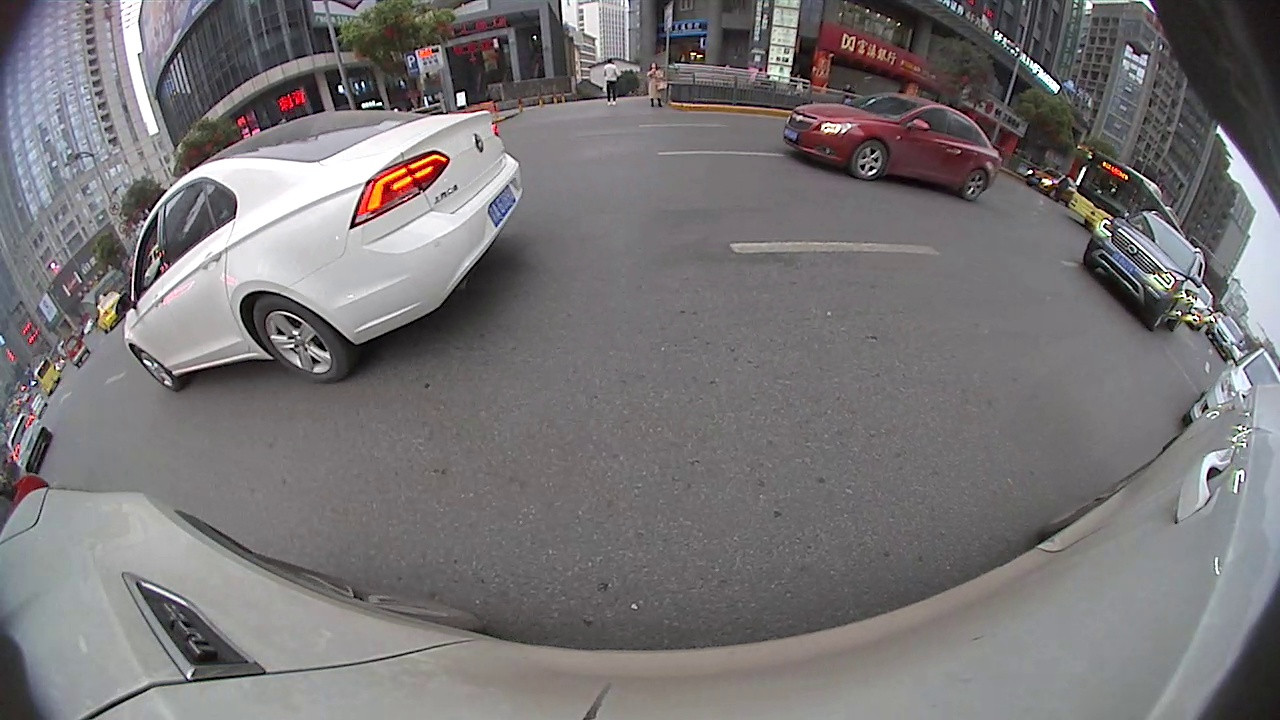bus: (1063, 144, 1192, 233)
car: (113, 104, 525, 393), (781, 88, 1004, 203), (1080, 208, 1208, 336), (1179, 344, 1279, 431)
front: (133, 347, 183, 393), (850, 138, 889, 181)
rear: (250, 291, 356, 384), (960, 167, 990, 203)
